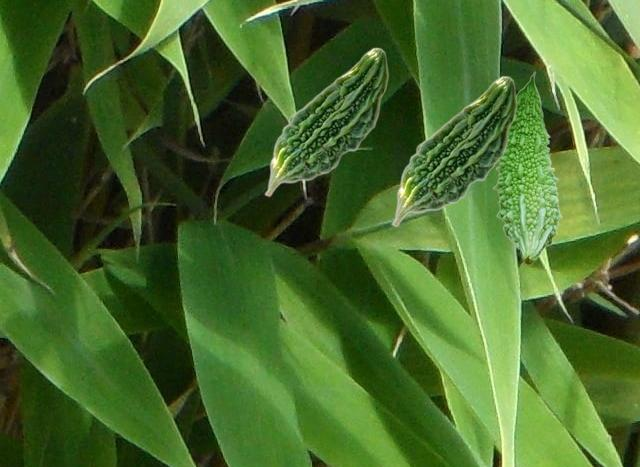ampalaya: (390, 74, 519, 229), (263, 45, 391, 199), (492, 71, 563, 265)
